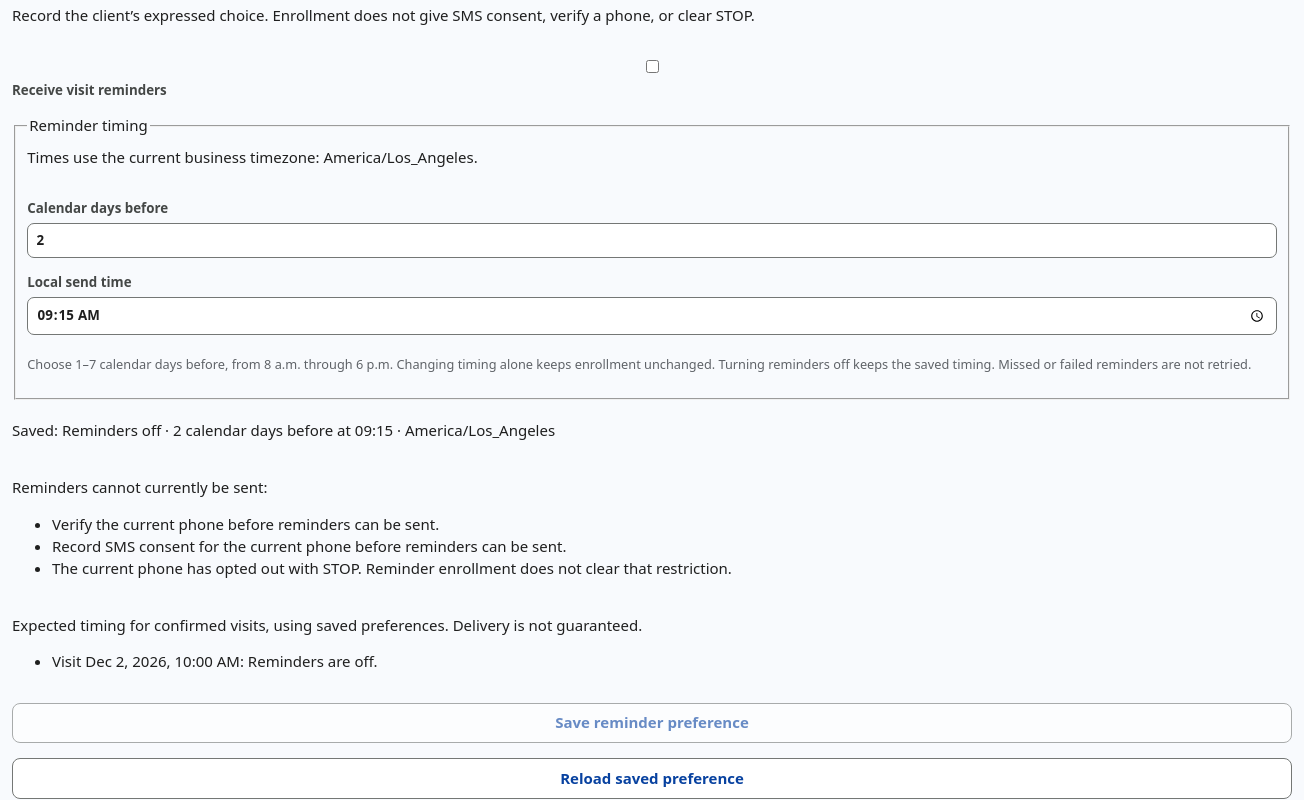
Test: records expressed enrollment separately from eligibility and handles stale saves
The image size is (1304, 800).
Click the checkbox labelled "Receive visit reminders" at (652, 66), box [16, 60, 1289, 73]
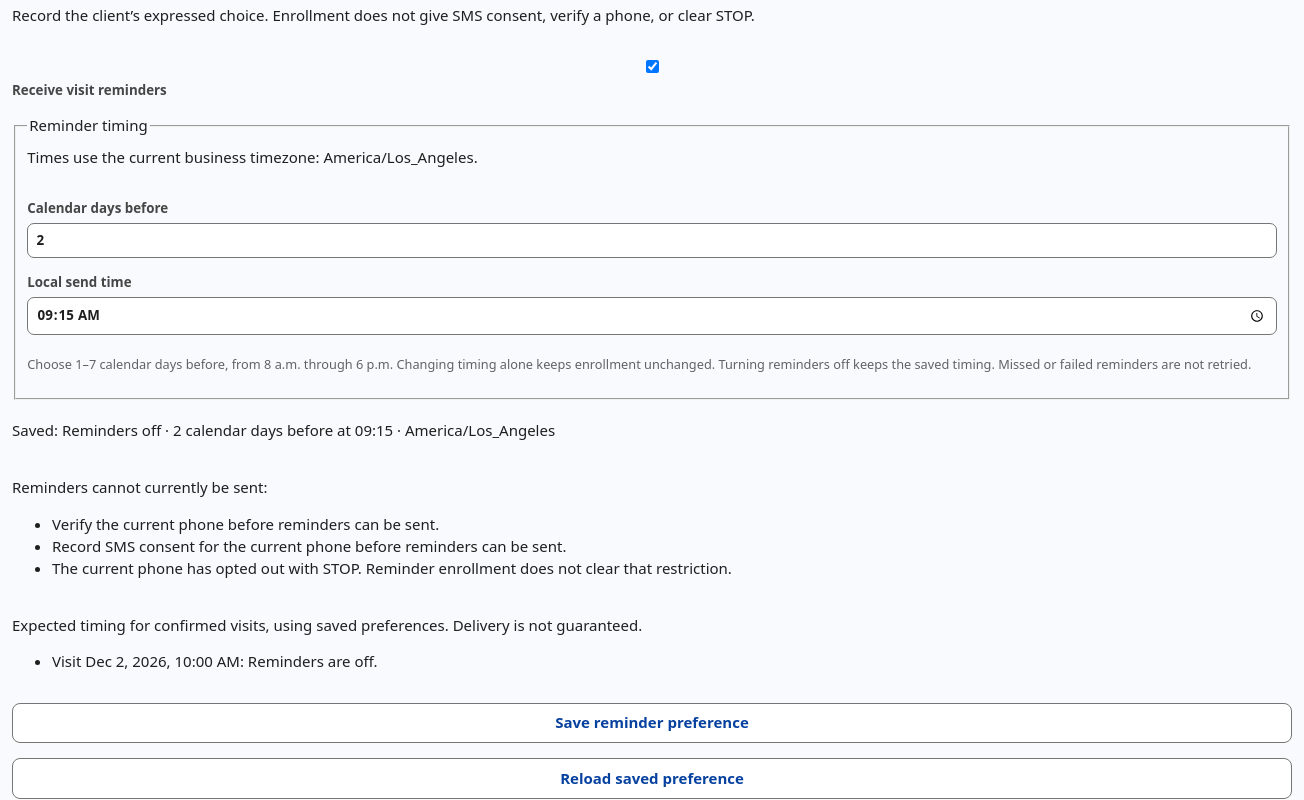
Submit the form
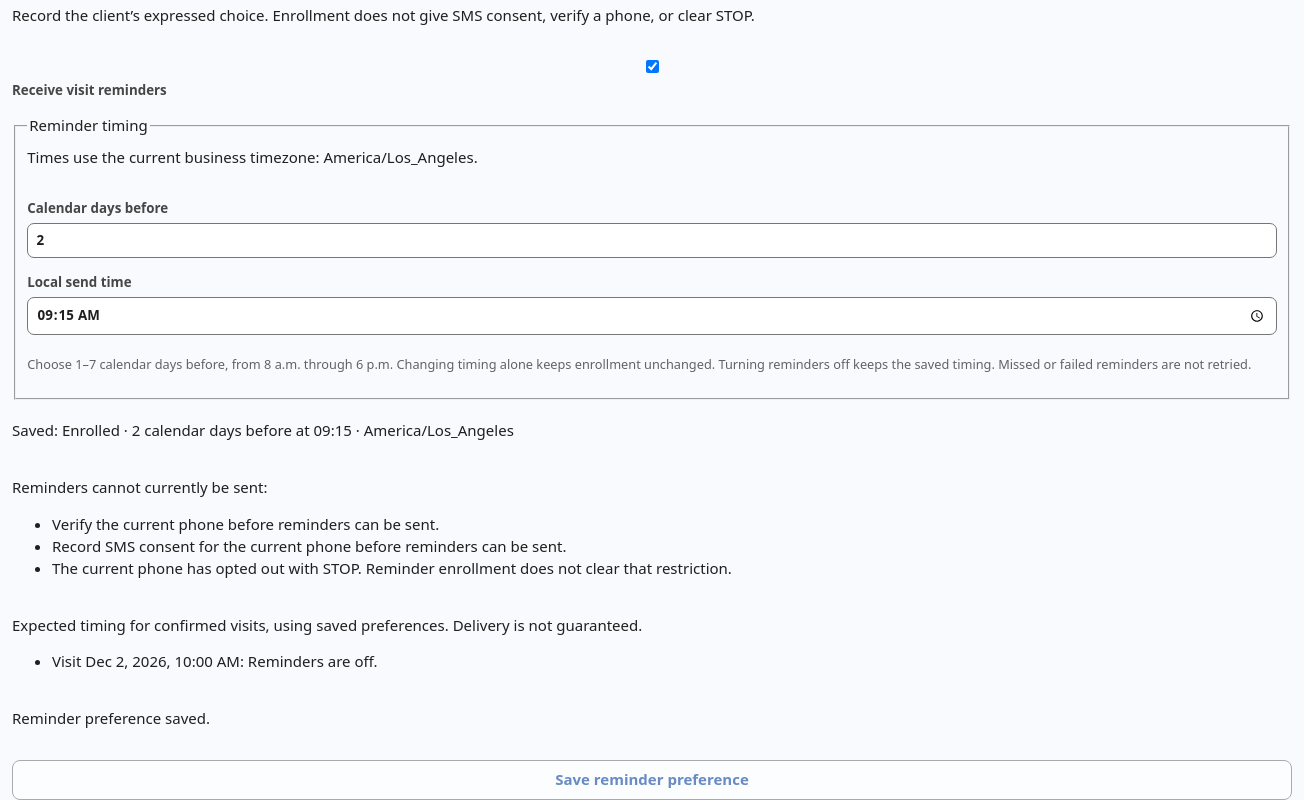
Result: the checkbox labelled "Receive visit reminders" is checked
Result: the text "Reminder preference saved" is shown at [12, 708, 210, 728]
Click the checkbox labelled "Receive visit reminders" at (652, 66), box [16, 60, 1289, 73]
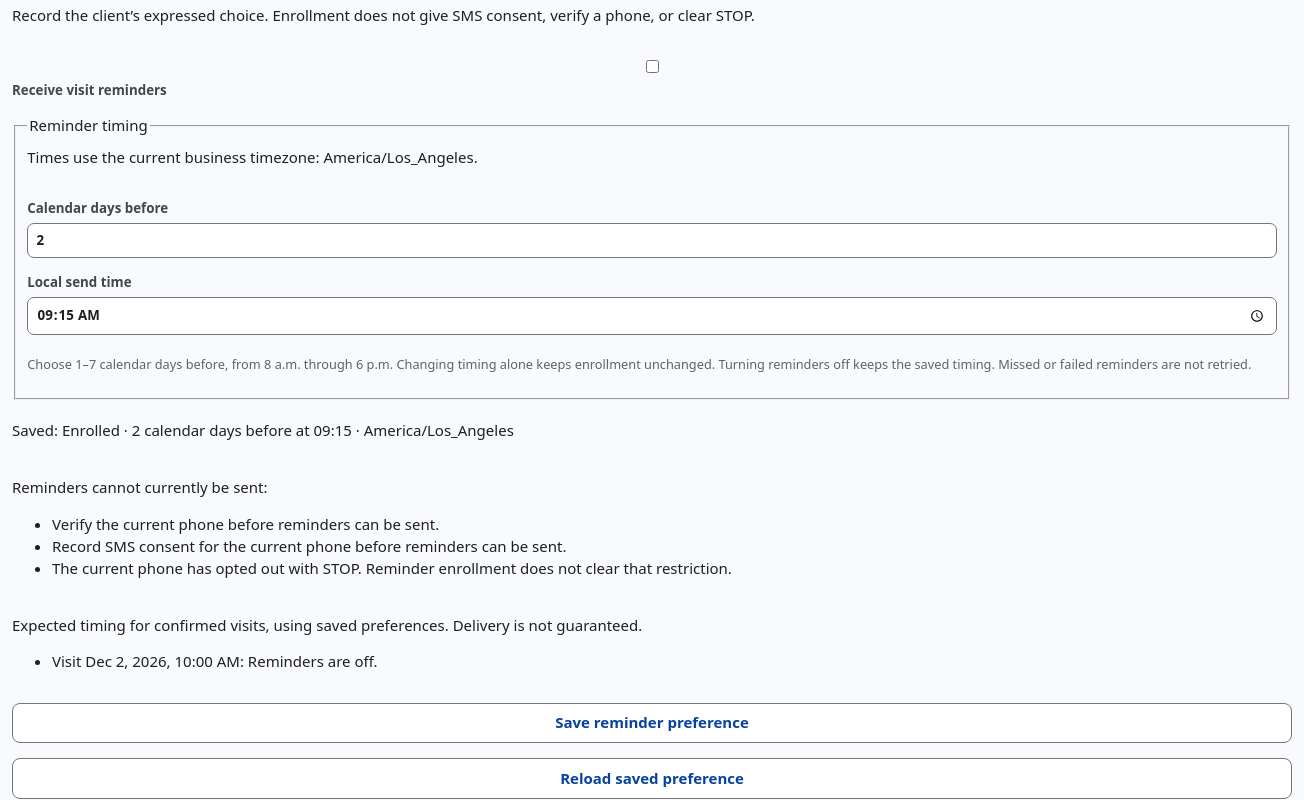
Submit the form
(page scrolled)
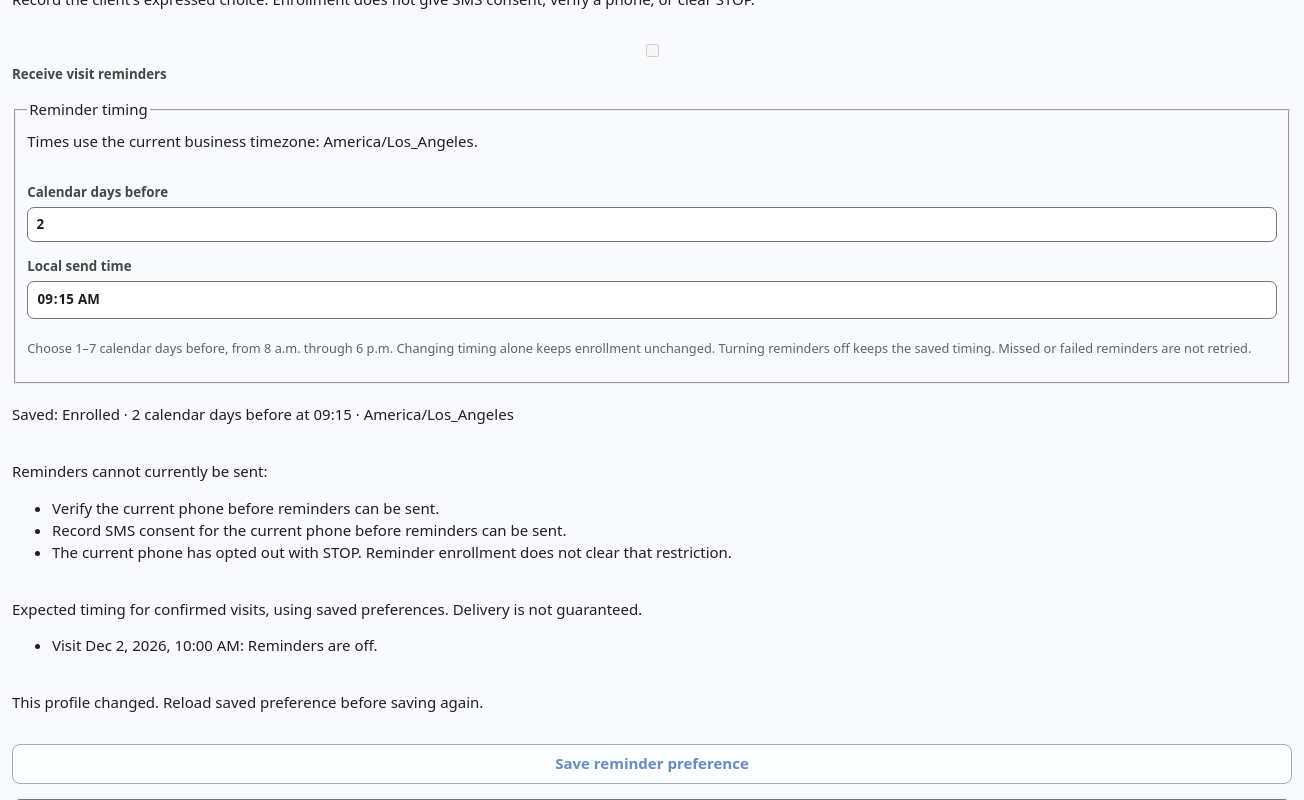
Result: the text "This profile changed" is shown at [12, 692, 483, 712]
Result: the submit button is disabled at [12, 744, 1292, 784]
Submit the form
(page scrolled)
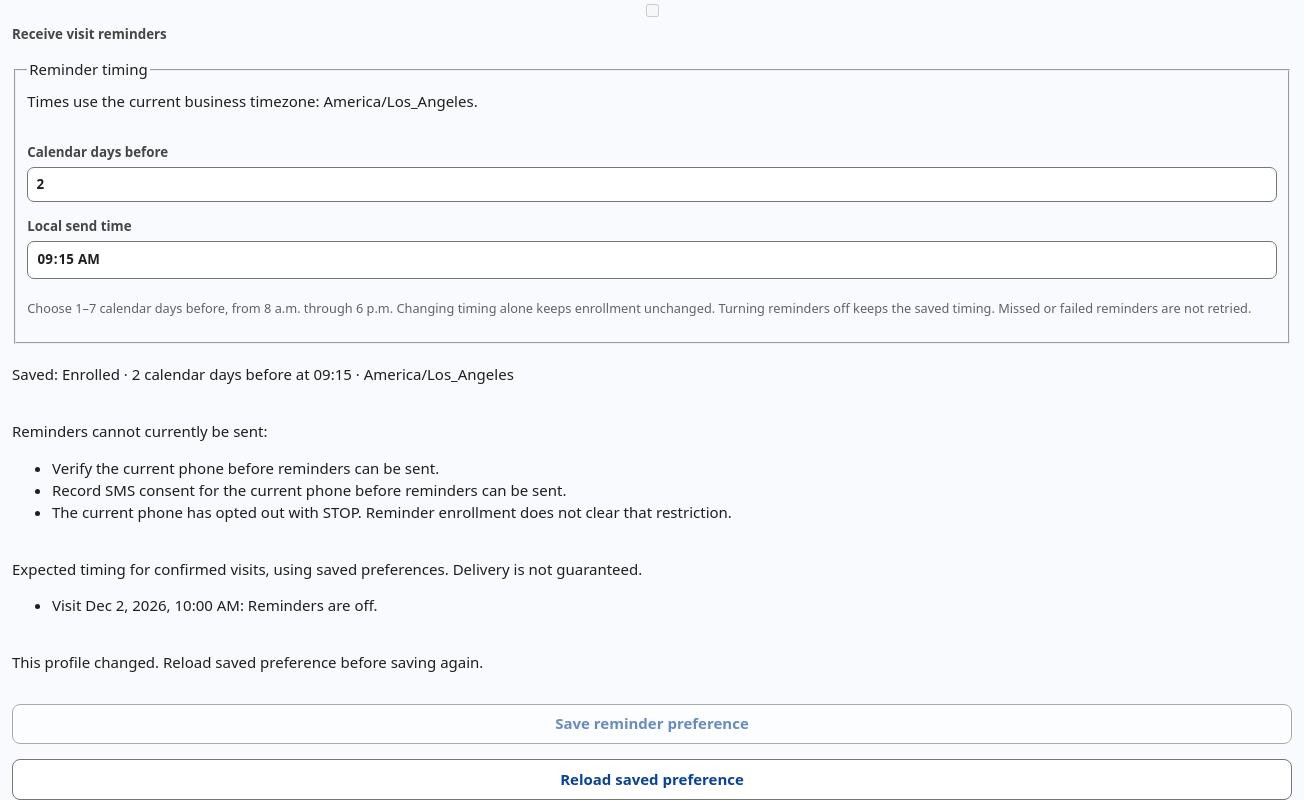
Click the button "Reload saved preference" at (652, 779), box [12, 759, 1292, 799]
(page scrolled)
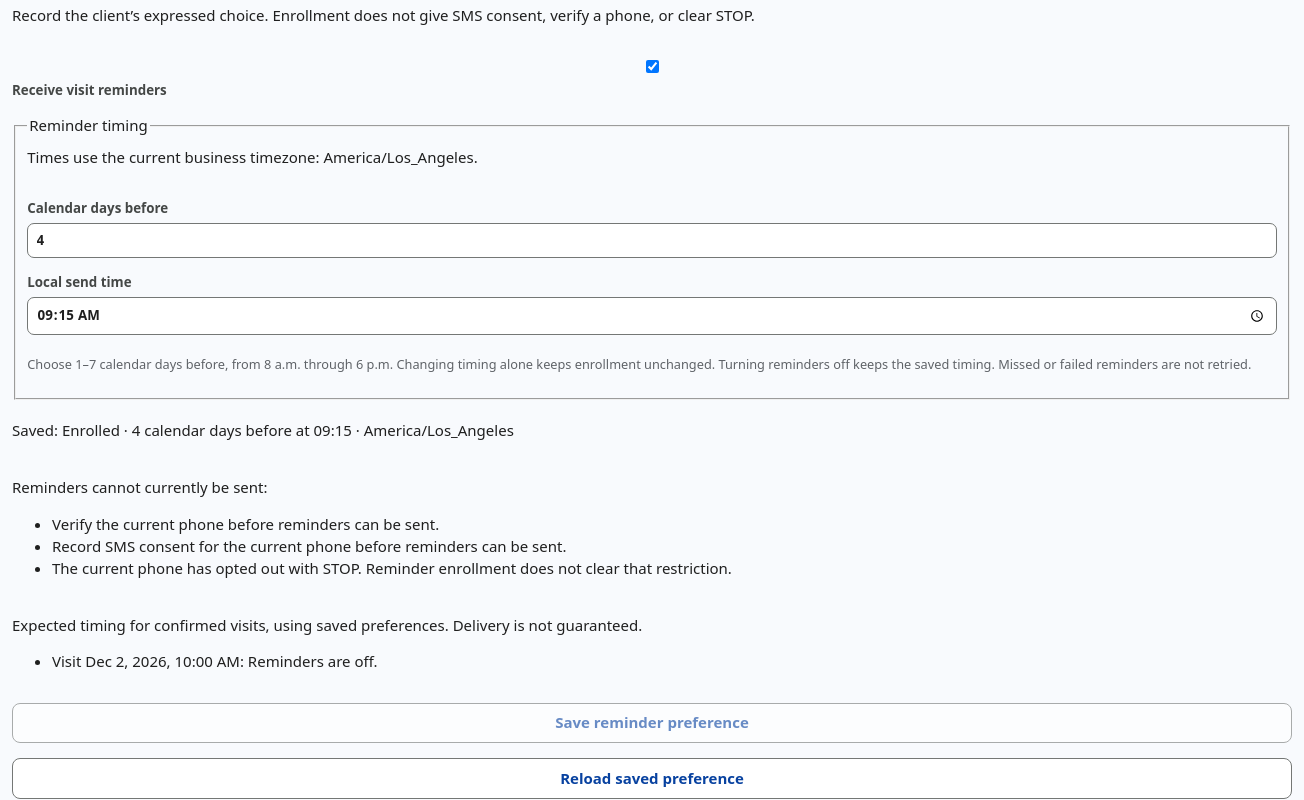
Result: the checkbox labelled "Receive visit reminders" is checked at [16, 60, 1289, 73]
Result: the number field named "days_before" holds "4" at [27, 223, 1277, 258]
Result: the text "This profile changed" is gone
